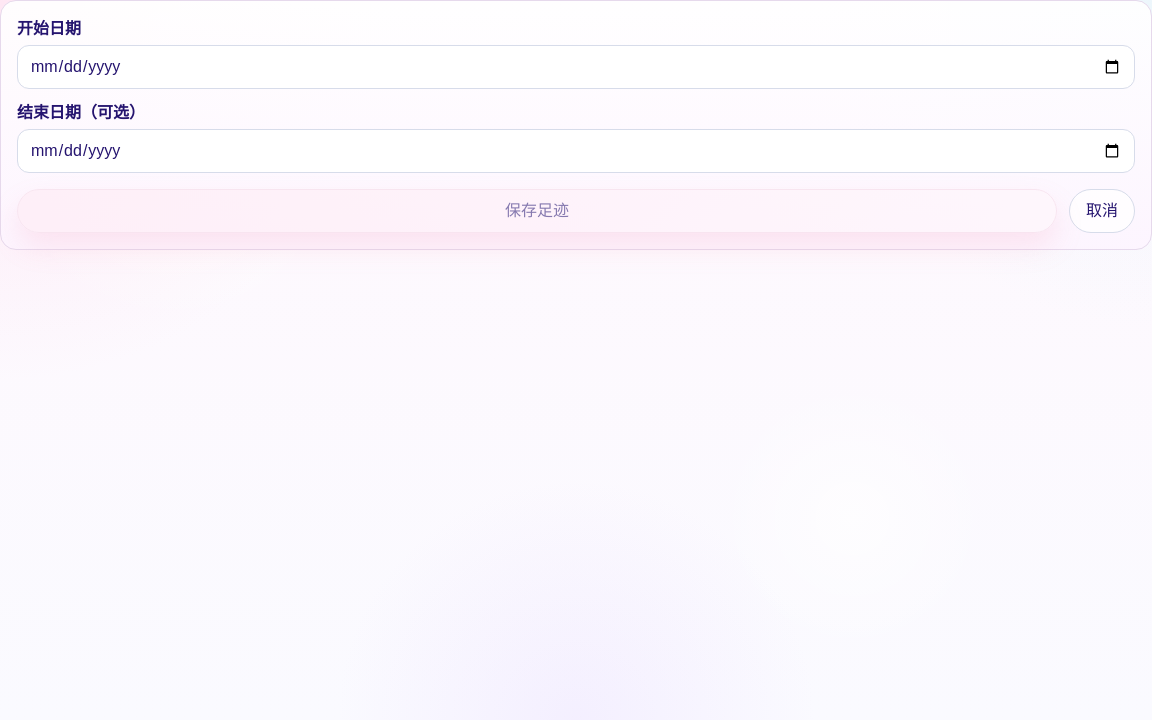
Test case: TripDateForm › enables the save button after selecting a start date
Type "2025-10-01" into the date field labelled "开始日期" at (576,67), box left=17, top=45, right=1135, bottom=89
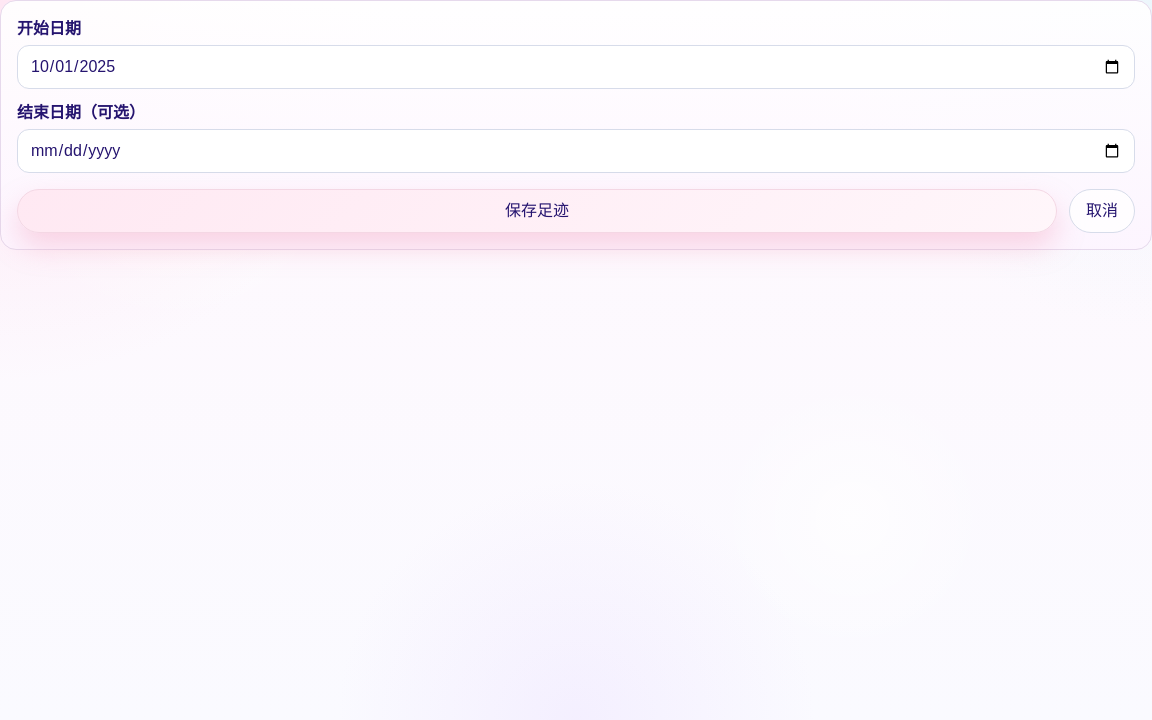
Now the button "保存足迹" is enabled, box left=17, top=189, right=1057, bottom=233
